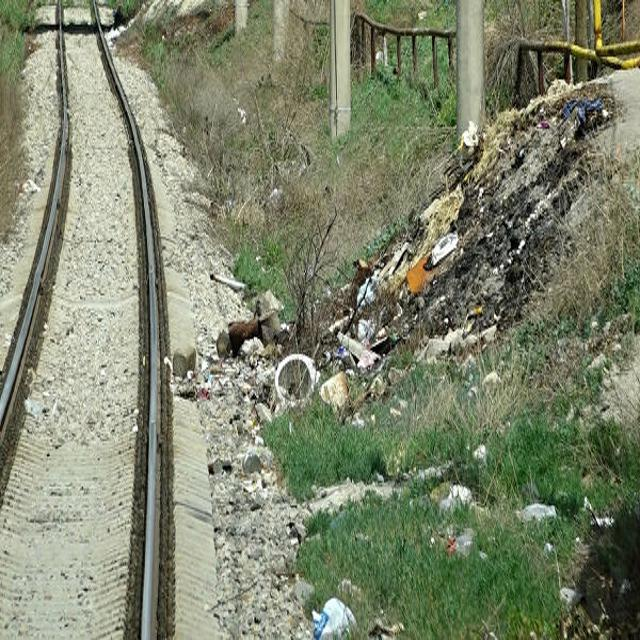lixeira: (270, 348, 382, 407), (349, 259, 406, 343), (409, 228, 461, 292), (198, 356, 270, 398), (214, 305, 270, 356), (556, 96, 610, 146), (311, 597, 357, 639), (458, 118, 481, 170), (443, 526, 479, 559), (516, 504, 556, 524)
